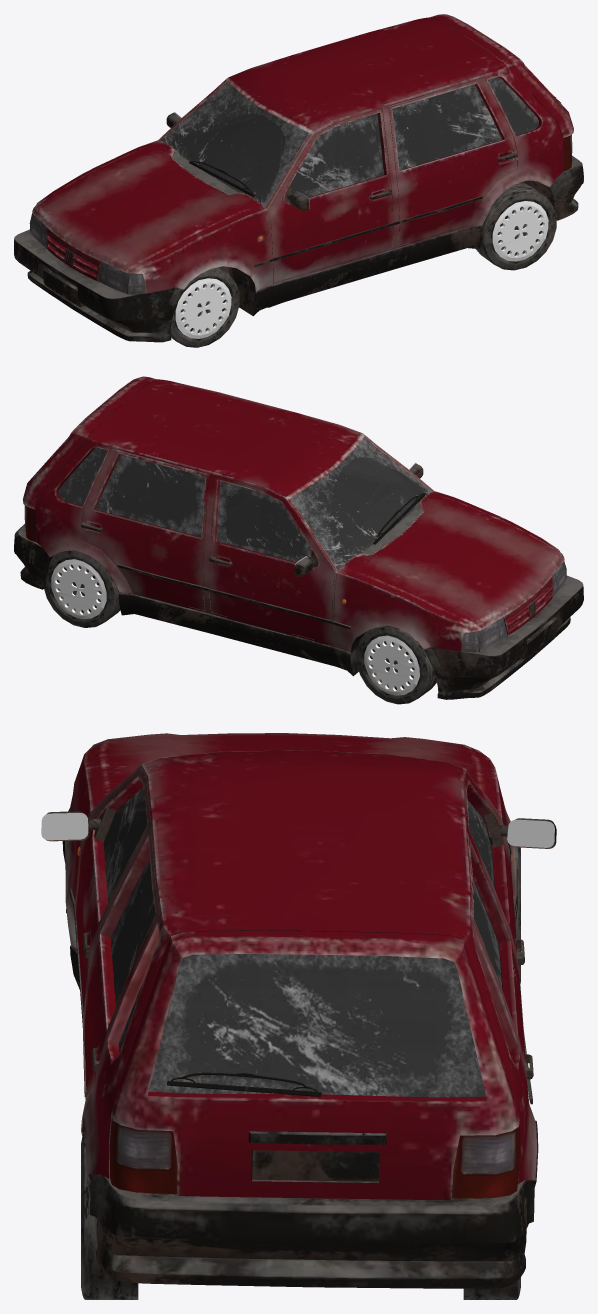
File: fiat-uno-1994.glb
3 renders of one model, top to bottom at view 1: azimuth 30°, elevation 25°; view 2: azimuth 150°, elevation 25°; view 3: azimuth 270°, elevation 25°, orthographic. The views are drawn at different scales.
Visible parts, largest first — view 1: Object_21, Object_17, Object_18, Object_5, Object_6, Object_19, Object_20; view 2: Object_21, Object_17, Object_18, Object_5, Object_6, Object_19, Object_20; view 3: Object_21, Object_18, Object_17, Object_19, Object_6, Object_22.
Boxes of the visible parts, x1=… form: Object_21: x1=32, y1=14, x2=573, y2=293; Object_17: x1=160, y1=27, x2=538, y2=207; Object_18: x1=14, y1=95, x2=583, y2=342; Object_5: x1=175, y1=201, x2=548, y2=338; Object_6: x1=170, y1=182, x2=556, y2=347; Object_19: x1=30, y1=134, x2=572, y2=294; Object_20: x1=267, y1=18, x2=562, y2=307; Object_21: x1=22, y1=376, x2=564, y2=652; Object_17: x1=58, y1=401, x2=432, y2=570; Object_18: x1=14, y1=463, x2=583, y2=699; Object_5: x1=51, y1=559, x2=419, y2=695; Object_6: x1=44, y1=550, x2=436, y2=704; Object_19: x1=24, y1=505, x2=566, y2=652; Object_20: x1=34, y1=441, x2=340, y2=648; Object_21: x1=65, y1=733, x2=536, y2=1200; Object_18: x1=46, y1=807, x2=556, y2=1288; Object_17: x1=103, y1=776, x2=502, y2=1097; Object_19: x1=77, y1=847, x2=520, y2=1198; Object_6: x1=81, y1=847, x2=520, y2=1299; Object_22: x1=41, y1=813, x2=554, y2=847.
Size of the model in its own units: 7.21 by 2.64 by 3.32.
8 materials, 5 textured.
